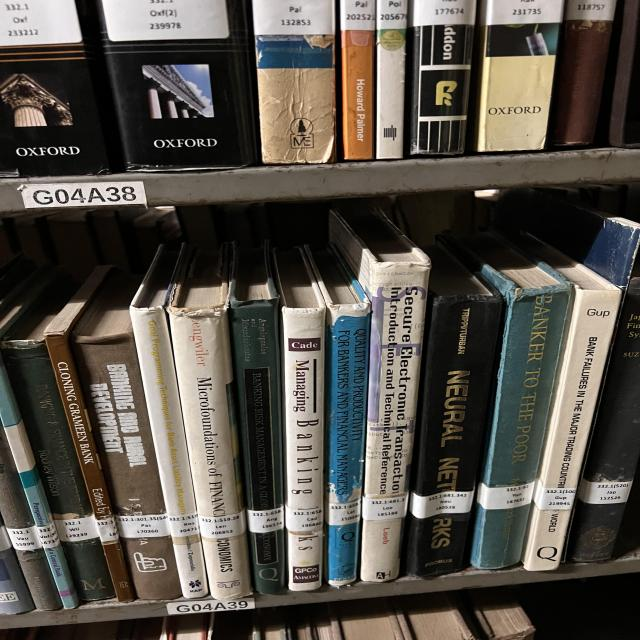Book: (440, 232, 572, 569), (330, 210, 430, 582), (70, 272, 182, 600), (2, 284, 115, 601), (522, 236, 622, 571), (405, 245, 503, 576), (43, 265, 135, 602), (167, 246, 252, 599), (130, 245, 208, 599), (100, 0, 257, 171), (305, 246, 370, 585), (567, 278, 640, 561), (228, 244, 285, 594), (0, 361, 78, 609), (275, 249, 327, 591), (253, 0, 335, 164), (475, 0, 563, 151), (0, 424, 62, 610), (408, 0, 477, 155), (550, 0, 617, 146), (340, 0, 375, 160), (375, 0, 407, 159)
Label: (102, 0, 230, 41), (252, 0, 335, 35), (487, 0, 563, 25), (410, 491, 473, 519), (412, 0, 477, 26), (477, 482, 535, 510), (578, 479, 632, 504), (533, 480, 577, 510), (198, 511, 245, 539), (117, 514, 170, 538), (362, 495, 408, 521), (55, 515, 98, 541), (565, 0, 617, 21), (340, 0, 375, 31), (285, 506, 323, 531), (247, 506, 283, 532), (377, 0, 407, 30), (328, 499, 362, 525), (7, 526, 42, 551), (167, 512, 200, 538), (37, 522, 60, 549), (95, 516, 118, 542)
